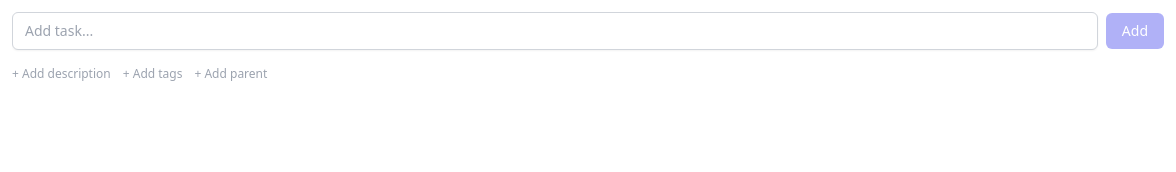
Test: CreateTodoForm › Tags Toggle › should hide tags toggle button when tag picker is shown
Click the button "+ Add tags". click: x=153, y=74
box: [123, 62, 182, 86]
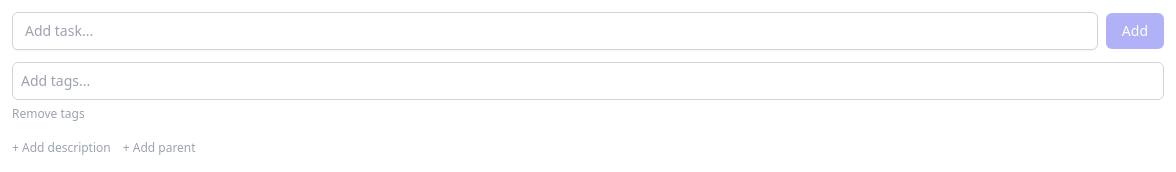
Result: the button "+ Add tags" is gone
